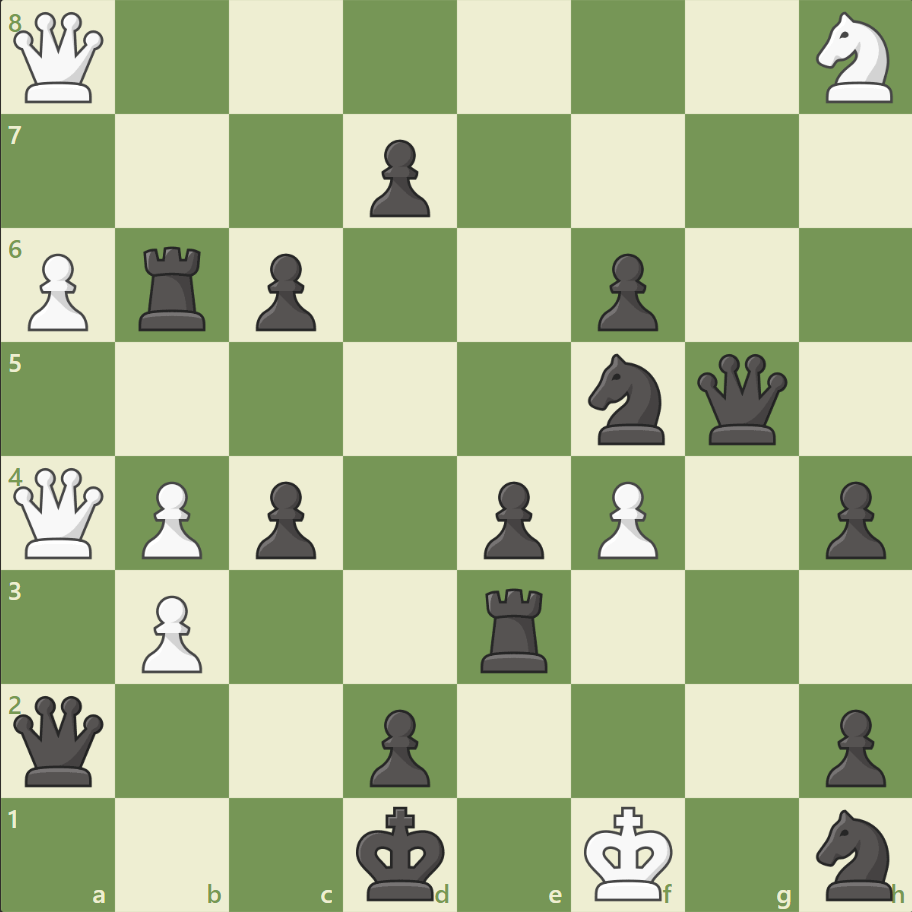K: (579, 798, 679, 906)
N: (806, 7, 903, 110)
P: (20, 246, 95, 337), (133, 473, 208, 564), (133, 586, 208, 677), (588, 473, 662, 564)
Q: (10, 9, 109, 108), (10, 463, 109, 562)
k: (351, 798, 451, 906)
n: (579, 348, 676, 450), (806, 802, 903, 904)
p: (247, 246, 322, 337), (247, 473, 322, 564), (474, 473, 549, 564), (361, 132, 435, 223), (588, 246, 662, 337), (815, 473, 889, 564), (361, 700, 435, 791), (815, 700, 889, 791)
q: (691, 349, 790, 449), (10, 690, 109, 789)
r: (473, 579, 556, 676), (133, 239, 215, 336)
